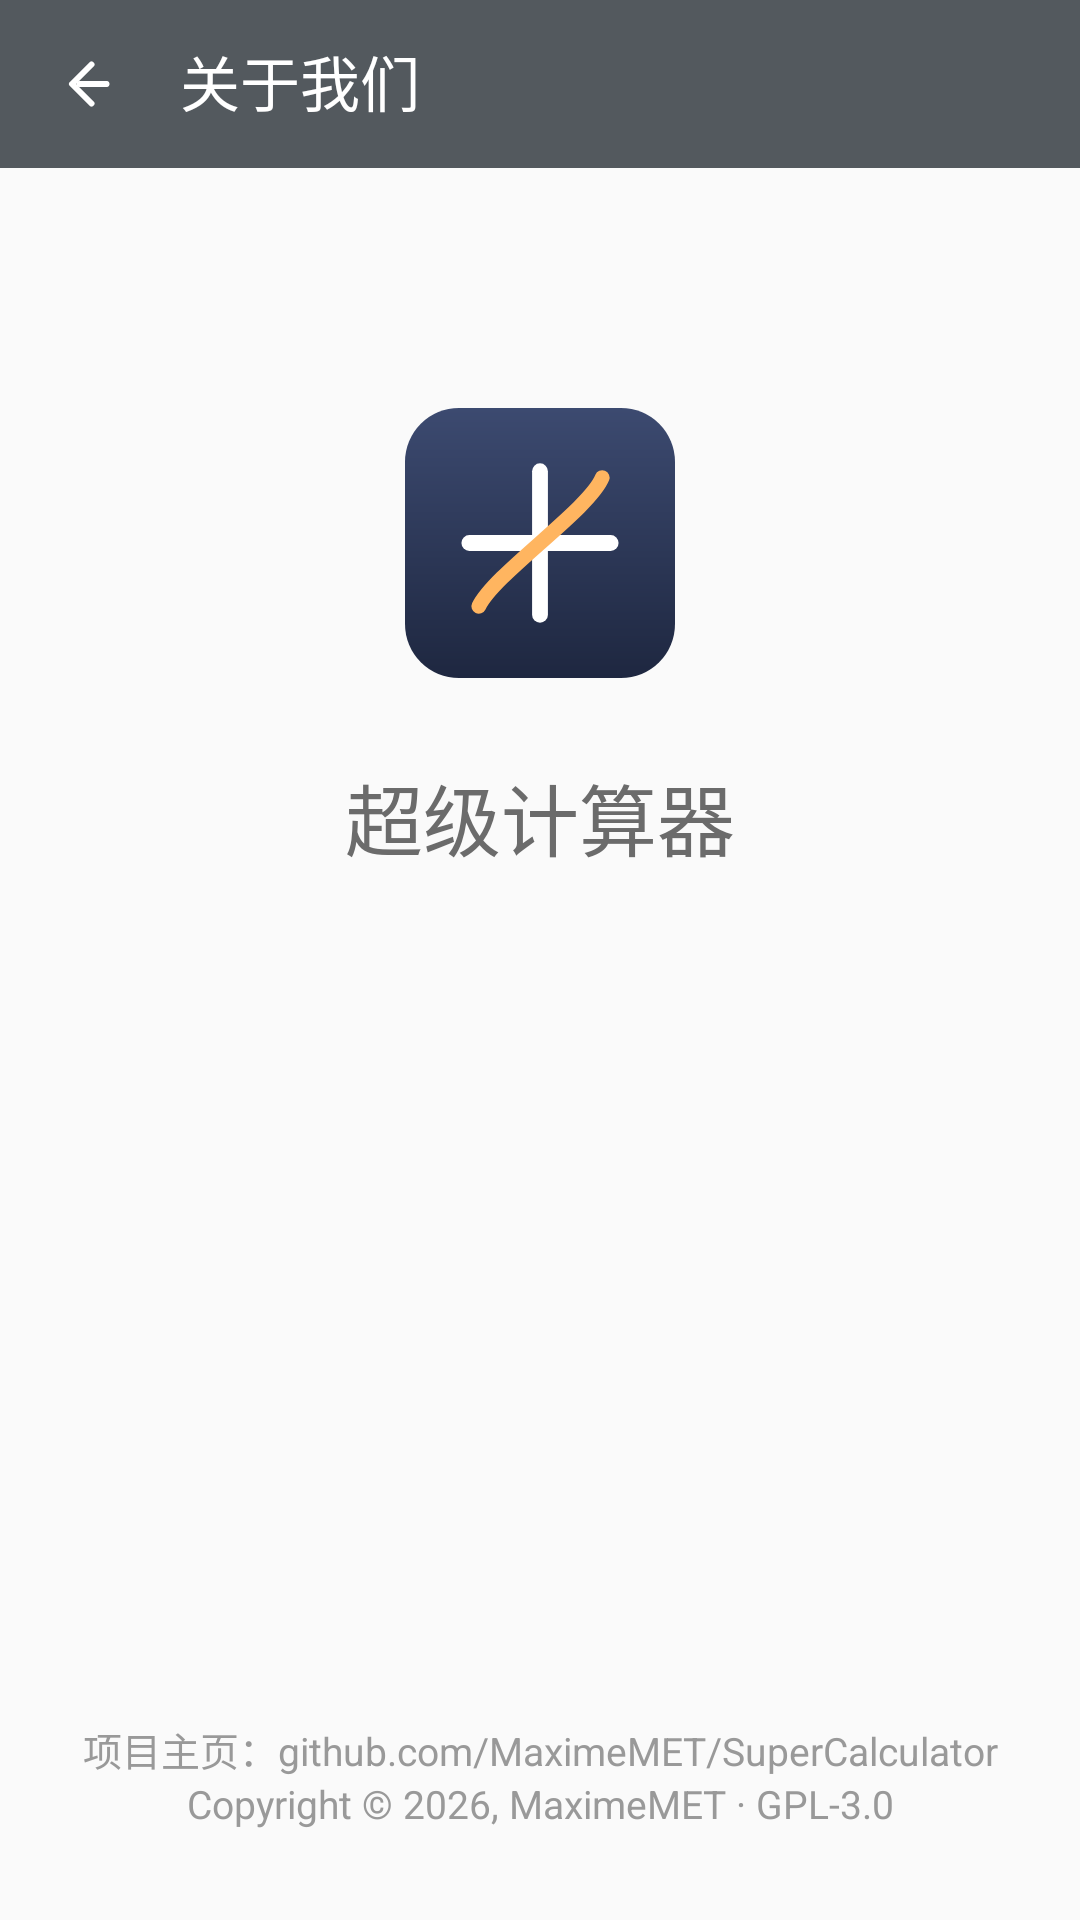

Icon bounding boxes for this 1080×1920 phone screenshot, format (x1, y1, x2, y2):
返回: (69, 61, 110, 107)
